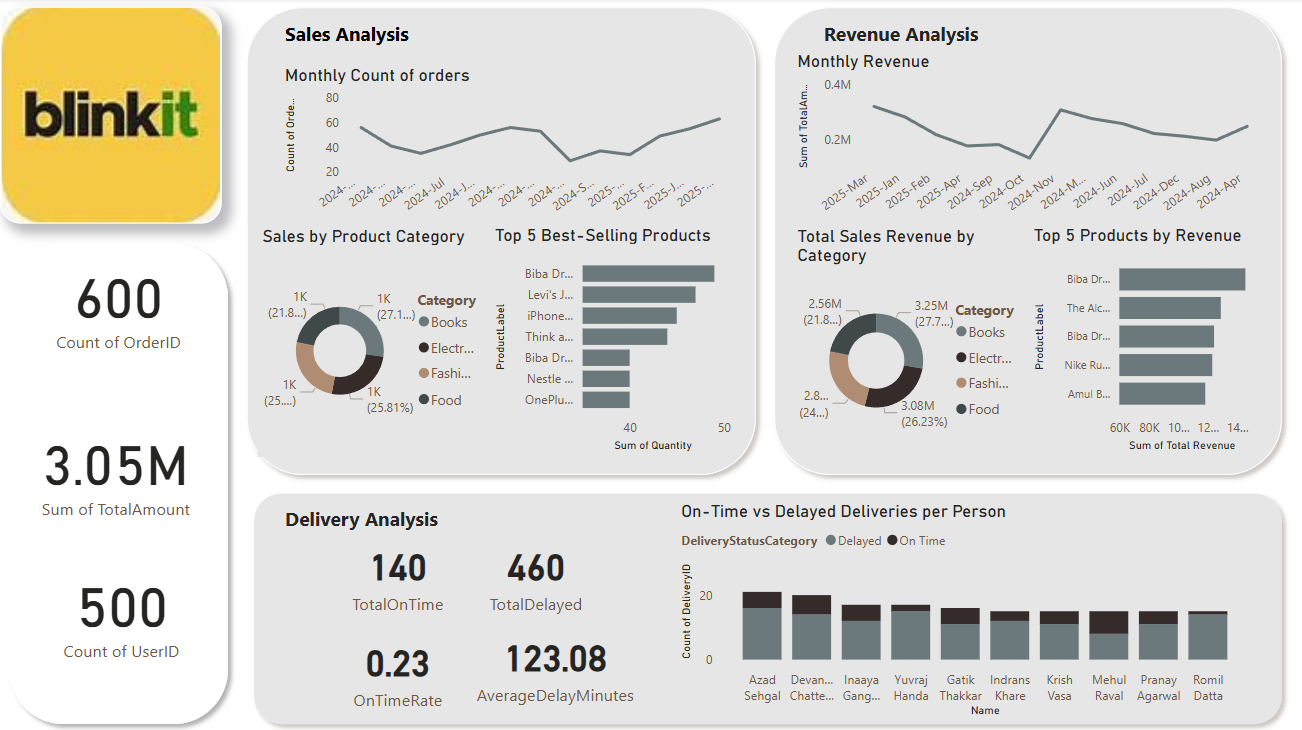

Layout of this report page (visuals, bound fields, positions):
{"tool":"powerbi","page":{"name":"Page 1","canvas":[1280,720],"ordinal":0},"visuals":[{"type":"shape","box":[239.5,476.1,1023.4,243.7],"z":0},{"type":"shape","box":[232.3,0,516,475.7],"z":1000},{"type":"lineChart","title":"Monthly Count of orders","fields":{"Category":["blinkit_database user.YearMonth"],"Y":["CountNonNull(blinkit_database orderr.OrderID)"]},"box":[273.9,64.8,446.3,156.5],"z":2000},{"type":"image","box":[0,8.6,216.7,212.4],"z":3000},{"type":"shape","box":[0,230.9,232.3,488.9],"z":4000},{"type":"card","fields":{"Values":["CountNonNull(blinkit_database user.UserID)"]},"box":[27.1,550.2,183.9,99.8],"z":5000},{"type":"card","fields":{"Values":["CountNonNull(blinkit_database orderr.OrderID)"]},"box":[32.8,248,166.8,99.8],"z":6000},{"type":"card","fields":{"Values":["Sum(blinkit_database orderr.TotalAmount)"]},"box":[32.8,411.9,161.1,98.4],"z":7000},{"type":"shape","box":[748.4,0,514.8,475.7],"z":8000},{"type":"donutChart","title":"Sales by Product Category","fields":{"Category":["blinkit_database product.Category"],"Y":["Sum(blinkit_database orderitem.Quantity)"]},"box":[251.9,222.6,227.4,226.2],"z":9000},{"type":"donutChart","title":"Total Sales Revenue by Category","fields":{"Category":["blinkit_database product.Category"],"Y":["Sum(blinkit_database orderitem.Total Revenue)"]},"box":[775.3,222.6,231.1,226.2],"z":10000},{"type":"barChart","title":"Top 5 Best-Selling Products","fields":{"Category":["blinkit_database product.ProductLabel"],"Y":["Sum(blinkit_database orderitem.Quantity)"]},"box":[479.4,221.3,240.9,227.4],"z":11000},{"type":"barChart","title":"Top 5 Products by Revenue","fields":{"Category":["blinkit_database product.ProductLabel"],"Y":["Sum(blinkit_database orderitem.Total Revenue)"]},"box":[1006.4,221.3,231.1,227.4],"z":12000},{"type":"card","fields":{"Values":["blinkit_database delivery.TotalOnTime"]},"box":[335.1,509.9,108.8,110.1],"z":13000},{"type":"card","fields":{"Values":["blinkit_database delivery.OnTimeRate"]},"box":[335.1,610.2,108.8,97.8],"z":14000},{"type":"card","fields":{"Values":["blinkit_database delivery.AverageDelayMinutes"]},"box":[458.6,600.4,170,107.6],"z":15000},{"type":"card","fields":{"Values":["blinkit_database delivery.TotalDelayed"]},"box":[443.9,509.9,161.4,110.1],"z":16000},{"type":"columnChart","title":"On-Time vs Delayed Deliveries per Person","fields":{"Category":["blinkit_database deliveryperson.Name"],"Series":["blinkit_database delivery.DeliveryStatusCategory"],"Y":["CountNonNull(blinkit_database delivery.DeliveryID)"]},"box":[661.4,491.8,564.5,216.7],"z":17000},{"type":"textbox","box":[273.9,17.1,303.3,47.7],"z":18000},{"type":"textbox","box":[801,17.1,320.4,47.7],"z":19000},{"type":"textbox","box":[273.9,491.6,331.4,35.5],"z":20000},{"type":"lineChart","title":"Monthly Revenue","fields":{"Category":["blinkit_database user.YearMonth"],"Y":["Sum(blinkit_database orderr.TotalAmount)"]},"box":[775.3,51.4,462.2,170],"z":20001}]}

Visuals, with their boxes in screenshot pixels (x1, y1, x2, y2), scaled from the page's 1280x720 canvas onto the 1302x730 screenshot:
shape: (x1=244, y1=483, x2=1285, y2=729)
shape: (x1=236, y1=0, x2=761, y2=482)
"Monthly Count of orders" lineChart: (x1=279, y1=66, x2=733, y2=224)
image: (x1=0, y1=9, x2=220, y2=224)
shape: (x1=0, y1=234, x2=236, y2=729)
card - CountNonNull(blinkit_database user.UserID): (x1=28, y1=558, x2=215, y2=659)
card - CountNonNull(blinkit_database orderr.OrderID): (x1=33, y1=251, x2=203, y2=353)
card - Sum(blinkit_database orderr.TotalAmount): (x1=33, y1=418, x2=197, y2=517)
shape: (x1=761, y1=0, x2=1285, y2=482)
"Sales by Product Category" donutChart: (x1=256, y1=226, x2=488, y2=455)
"Total Sales Revenue by Category" donutChart: (x1=789, y1=226, x2=1024, y2=455)
"Top 5 Best-Selling Products" barChart: (x1=488, y1=224, x2=733, y2=455)
"Top 5 Products by Revenue" barChart: (x1=1024, y1=224, x2=1259, y2=455)
card - blinkit_database delivery.TotalOnTime: (x1=341, y1=517, x2=452, y2=629)
card - blinkit_database delivery.OnTimeRate: (x1=341, y1=619, x2=452, y2=718)
card - blinkit_database delivery.AverageDelayMinutes: (x1=466, y1=609, x2=639, y2=718)
card - blinkit_database delivery.TotalDelayed: (x1=452, y1=517, x2=616, y2=629)
"On-Time vs Delayed Deliveries per Person" columnChart: (x1=673, y1=499, x2=1247, y2=718)
textbox: (x1=279, y1=17, x2=587, y2=66)
textbox: (x1=815, y1=17, x2=1141, y2=66)
textbox: (x1=279, y1=498, x2=616, y2=534)
"Monthly Revenue" lineChart: (x1=789, y1=52, x2=1259, y2=224)
